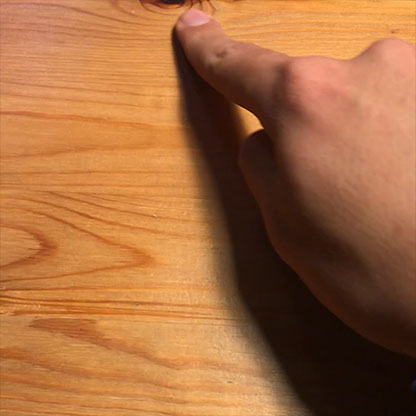fingertip: (173, 6, 220, 39)
